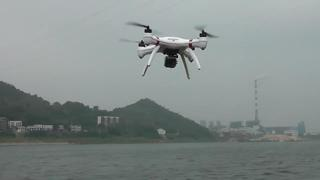UAV: (120, 22, 220, 80)
